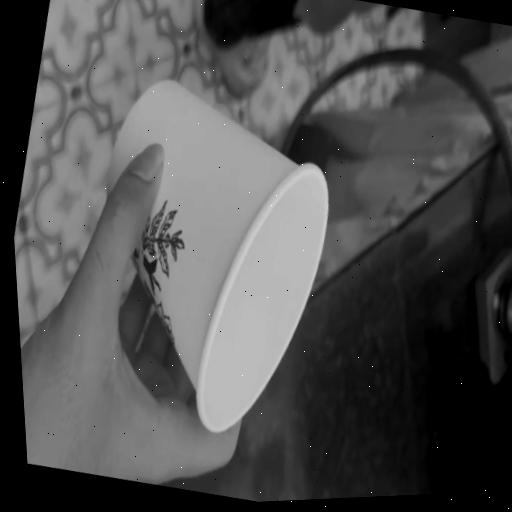Ly_giay: (108, 82, 327, 431)
